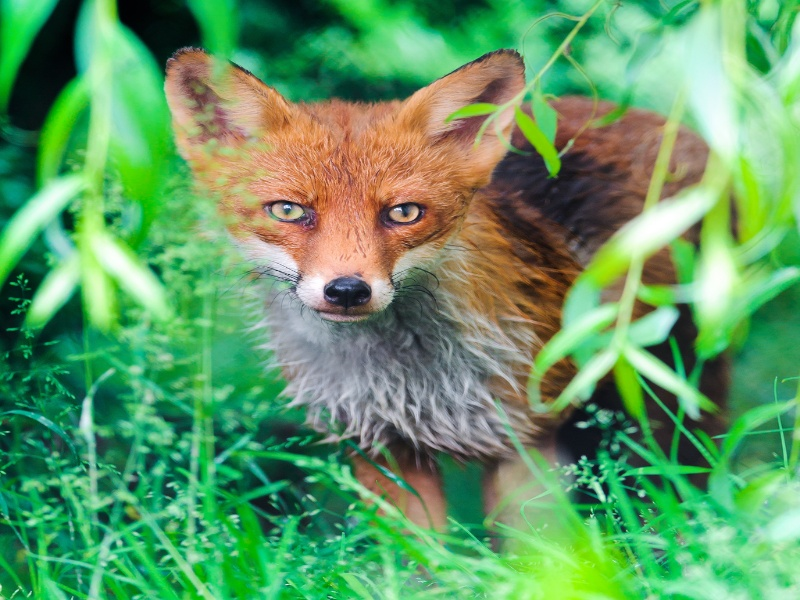fox: (157, 41, 736, 549)
